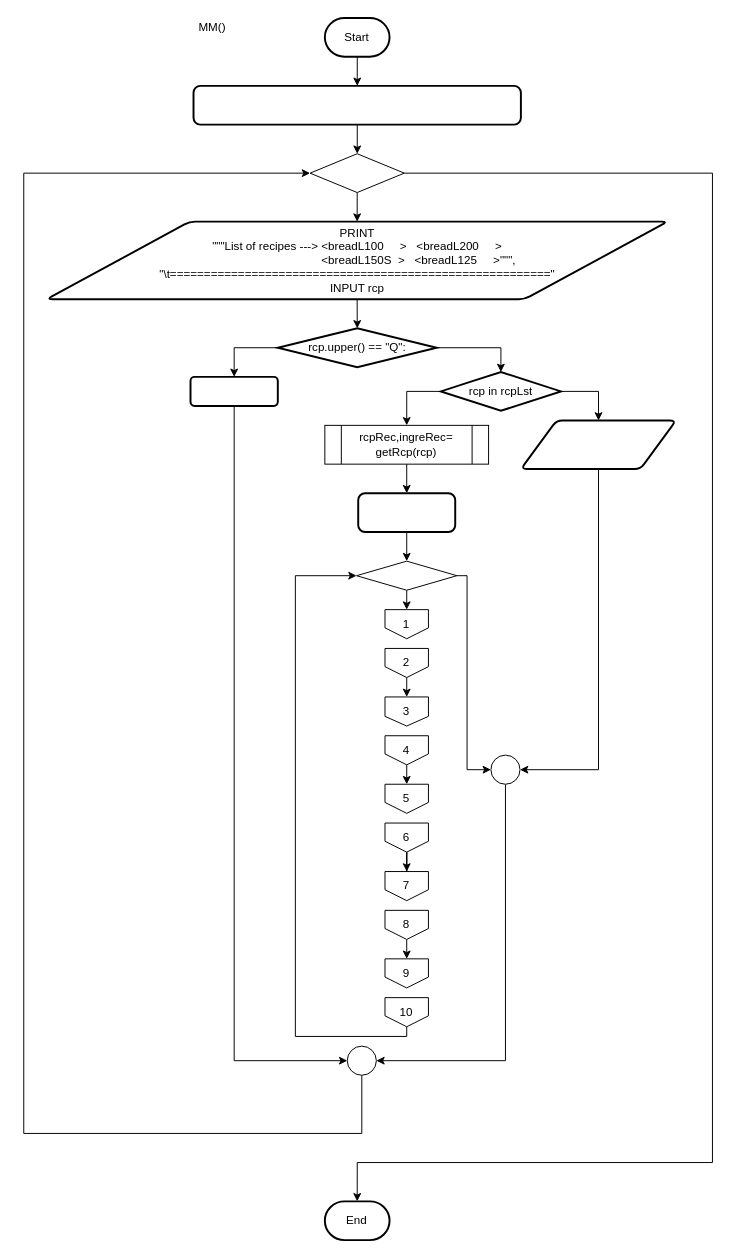
The diagram is 737 pixels wide and 1257 high, and some of its shapes have lost their labels. The shapes that lost their labels are listed below. From the top down, each one's box as (x1, y1, x2, y2) in pixels, then its label:
(192, 84, 521, 125): loop=True rcpLst=["breadL100","breadL150S","breadL200","breadL125"]
(309, 153, 404, 193): loop
(189, 375, 278, 406): loop=False
(519, 419, 677, 469): PRINT "\tNo such recipe\n"
(357, 492, 456, 533): step=1 loop2=True
(356, 560, 457, 590): loop2
